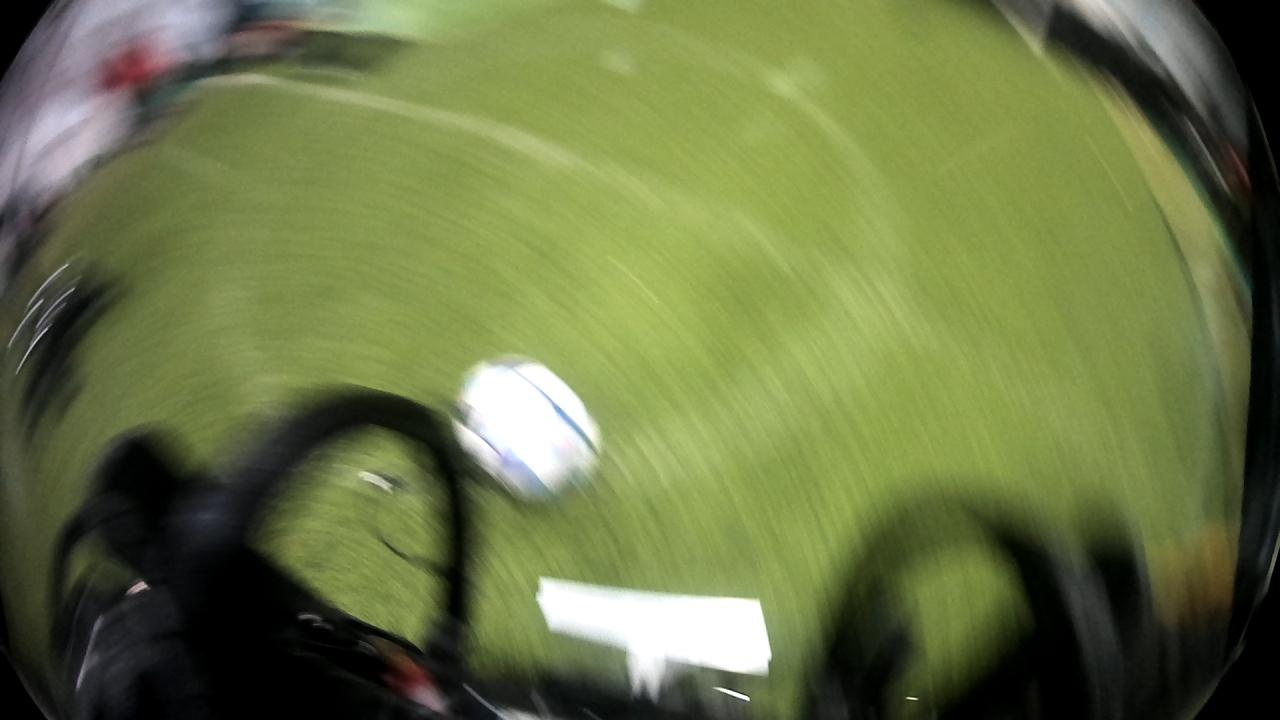ball: (440, 346, 610, 512)
